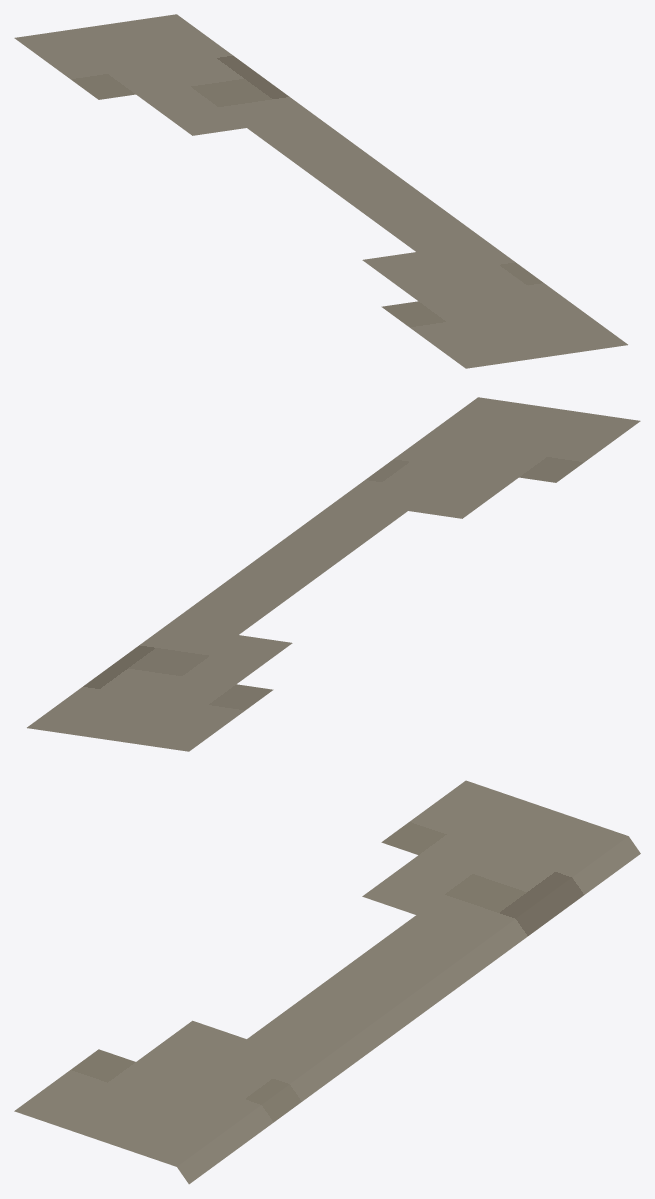
The picture shows the model from 3 angles, top to bottom: view 1: azimuth 30°, elevation 25°; view 2: azimuth 150°, elevation 25°; view 3: azimuth 330°, elevation 25°; orthographic projection.
Bounding box in the file's own units: 0.2236 × 0.0373 × 1.
1 material, 1 textured.
